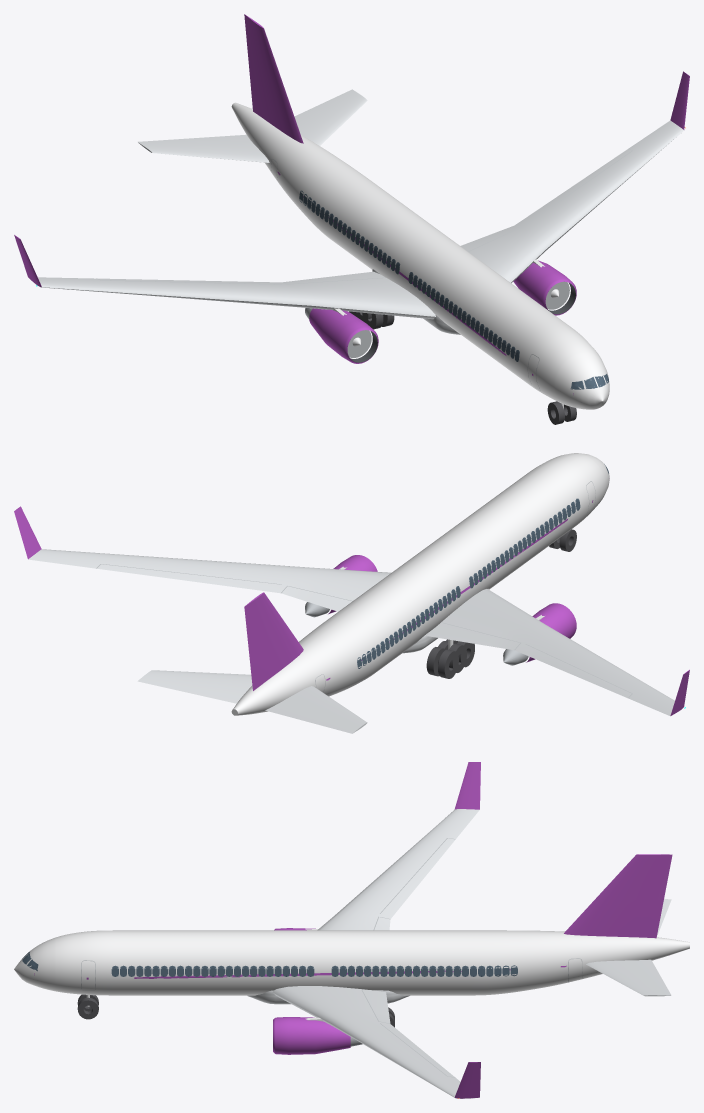
File: plane-widebody.glb
3 renders of one model, top to bottom at view 1: azimuth 30°, elevation 25°; view 2: azimuth 150°, elevation 25°; view 3: azimuth 270°, elevation 25°, orthographic. The views are drawn at different scales.
Visible parts, largest first — view 1: plane-widebody; view 2: plane-widebody; view 3: plane-widebody.
Boxes of the visible parts, x1,y1,x2,y2 form: plane-widebody: [14, 14, 689, 424]; plane-widebody: [14, 453, 689, 733]; plane-widebody: [14, 762, 689, 1098].
Size of the model in its own units: 66.94 by 16.73 by 63.7.
